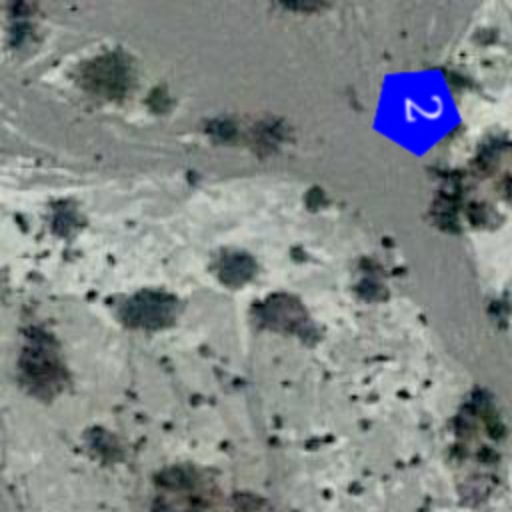pentagon: (364, 58, 468, 162)
